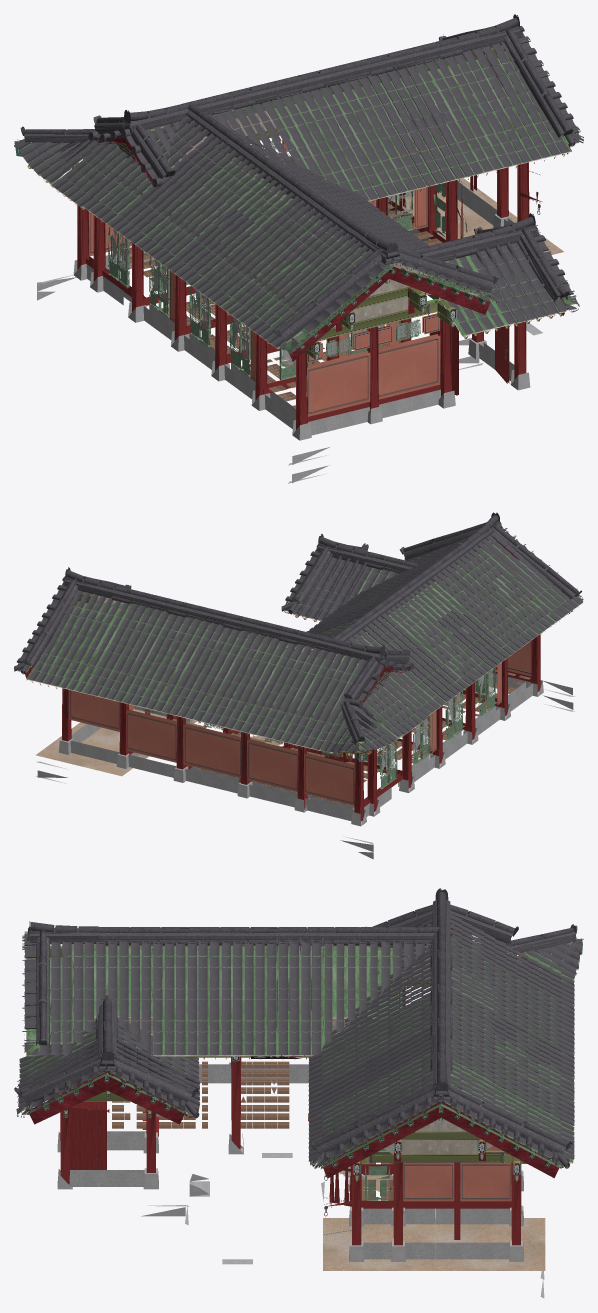
The model's file is boknae.glb.
The picture shows the model from 3 angles, top to bottom: view 1: azimuth 30°, elevation 25°; view 2: azimuth 150°, elevation 25°; view 3: azimuth 270°, elevation 25°; orthographic projection. The views are drawn at different scales.
Visible parts, largest first — view 1: SM_Boknaedang, SM_Boknaedang_MI_R_Roof1_0.010, SM_Boknaedang_MI_R_Roof1_0.006, SM_Boknaedang_MI_R_Roof1_0.013, SM_Boknaedang_MI_R_Roof1_0.012, SM_Boknaedang_MI_R_Roof1_0.009, SM_Boknaedang_MI_R_Roof1_0.005, SM_Boknaedang_MI_R_Roof1_0.001, SM_Boknaedang_MI_R_Roof1_0.007, SM_Boknaedang_MI_R_Roof1_0.002, SM_Boknaedang_MI_R_Roof1_0.011, SM_Boknaedang_MI_R_Roof1_0.003 (+6 smaller); view 2: SM_Boknaedang, SM_Boknaedang_MI_R_Roof1_0.002, SM_Boknaedang_MI_R_Roof1_0.003, SM_Boknaedang_MI_R_Roof1_0.005, SM_Boknaedang_MI_R_Roof1_0.004, SM_Boknaedang_MI_R_Roof1_0.008, SM_Boknaedang_MI_R_Roof1_0.001, SM_Boknaedang_MI_R_Roof1_0.011, SM_Boknaedang_MI_R_Roof1_0.009, SM_Boknaedang_MI_R_Roof1_0.010, SM_Boknaedang_MI_R_Roof1_0.006, SM_Boknaedang_MI_R_Roof1_0.007 (+6 smaller); view 3: SM_Boknaedang, SM_Boknaedang_MI_R_Roof1_0.012, SM_Boknaedang_MI_R_Roof1_0.004, SM_Boknaedang_MI_R_Roof1_0.007, SM_Boknaedang_MI_R_Roof1_0.011, SM_Boknaedang_MI_R_Roof1_0.013, SM_Boknaedang_MI_R_Roof1_0.001, SM_Boknaedang_MI_R_Roof1_0.009, SM_Boknaedang_MI_R_Roof1_0.006, SM_Boknaedang_MI_R_Roof1_0.002, SM_Boknaedang_MI_R_Roof1_0.008, SM_Boknaedang_MI_R_Roof1_0.005 (+4 smaller).
Part boxes in pixels (x1,y1,x2,y2): SM_Boknaedang: (14,14,579,483); SM_Boknaedang_MI_R_Roof1_0.010: (108,64,576,285); SM_Boknaedang_MI_R_Roof1_0.006: (78,54,562,240); SM_Boknaedang_MI_R_Roof1_0.013: (175,54,521,261); SM_Boknaedang_MI_R_Roof1_0.012: (20,57,482,232); SM_Boknaedang_MI_R_Roof1_0.009: (214,176,579,352); SM_Boknaedang_MI_R_Roof1_0.005: (23,37,536,264); SM_Boknaedang_MI_R_Roof1_0.001: (88,28,583,326); SM_Boknaedang_MI_R_Roof1_0.007: (476,82,569,323); SM_Boknaedang_MI_R_Roof1_0.002: (52,141,377,326); SM_Boknaedang_MI_R_Roof1_0.011: (14,87,421,347); SM_Boknaedang_MI_R_Roof1_0.003: (193,196,428,305); SM_Boknaedang: (14,540,581,859); SM_Boknaedang_MI_R_Roof1_0.002: (88,545,560,740); SM_Boknaedang_MI_R_Roof1_0.003: (84,553,537,701); SM_Boknaedang_MI_R_Roof1_0.005: (111,586,491,747); SM_Boknaedang_MI_R_Roof1_0.004: (163,565,430,752); SM_Boknaedang_MI_R_Roof1_0.008: (28,541,482,751); SM_Boknaedang_MI_R_Roof1_0.001: (45,575,559,707); SM_Boknaedang_MI_R_Roof1_0.011: (278,532,582,753); SM_Boknaedang_MI_R_Roof1_0.009: (291,512,583,633); SM_Boknaedang_MI_R_Roof1_0.010: (362,592,514,701); SM_Boknaedang_MI_R_Roof1_0.006: (167,539,475,718); SM_Boknaedang_MI_R_Roof1_0.007: (20,537,467,706); SM_Boknaedang: (19,915,582,1298); SM_Boknaedang_MI_R_Roof1_0.012: (189,924,577,1094); SM_Boknaedang_MI_R_Roof1_0.004: (153,914,574,1077); SM_Boknaedang_MI_R_Roof1_0.007: (17,941,574,1161); SM_Boknaedang_MI_R_Roof1_0.011: (50,923,583,1054); SM_Boknaedang_MI_R_Roof1_0.013: (96,941,452,1137); SM_Boknaedang_MI_R_Roof1_0.001: (309,888,574,1168); SM_Boknaedang_MI_R_Roof1_0.009: (21,921,198,1117); SM_Boknaedang_MI_R_Roof1_0.006: (98,927,495,1150); SM_Boknaedang_MI_R_Roof1_0.002: (116,938,574,1102); SM_Boknaedang_MI_R_Roof1_0.008: (14,938,579,1159); SM_Boknaedang_MI_R_Roof1_0.005: (358,940,574,1123).
Size of the model in its own units: 18.75 by 8.8 by 20.34.
Materials: 18 (17 with a texture image).
